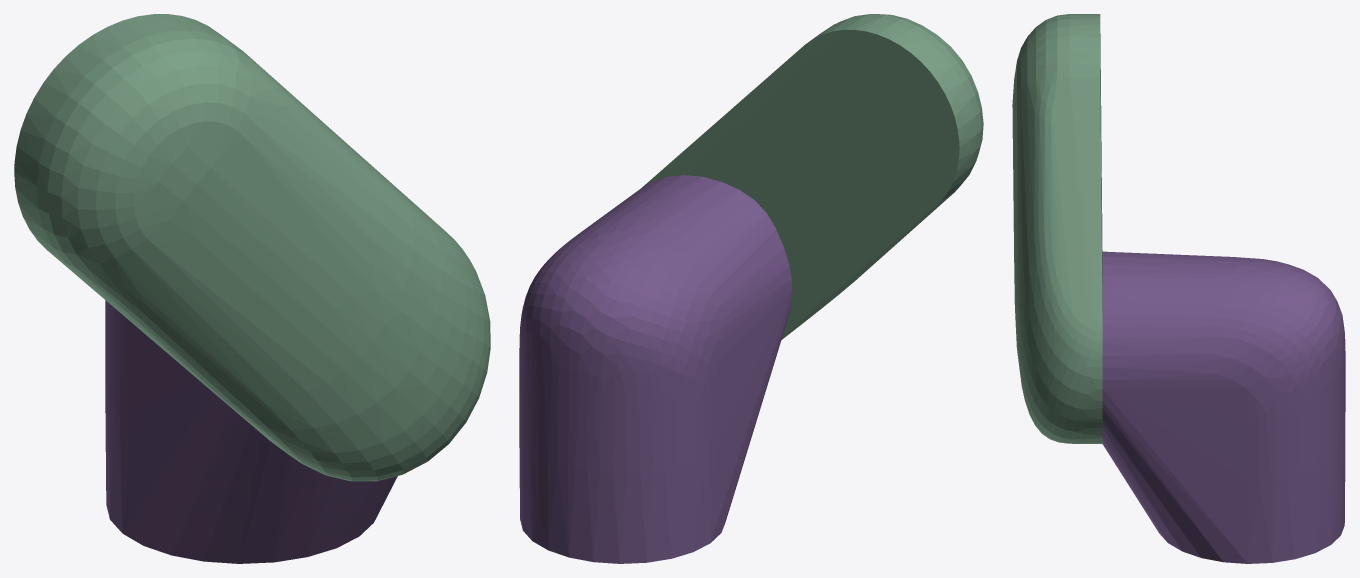
3 renders of one model, left to right at view 1: azimuth 30°, elevation 25°; view 2: azimuth 150°, elevation 25°; view 3: azimuth 270°, elevation 25°, orthographic. The views are drawn at different scales.
Visible parts, largest first — view 1: geometry_0, geometry_1; view 2: geometry_1, geometry_0; view 3: geometry_1, geometry_0.
Boxes of the visible parts, x1,y1,x2,y2 form: geometry_0: (14, 14, 490, 481); geometry_1: (105, 300, 397, 563); geometry_1: (519, 175, 792, 563); geometry_0: (642, 14, 983, 339); geometry_1: (1102, 251, 1345, 563); geometry_0: (1012, 14, 1102, 443).
Bounding box in the file's own units: 0.163 × 0.2119 × 0.1494.
